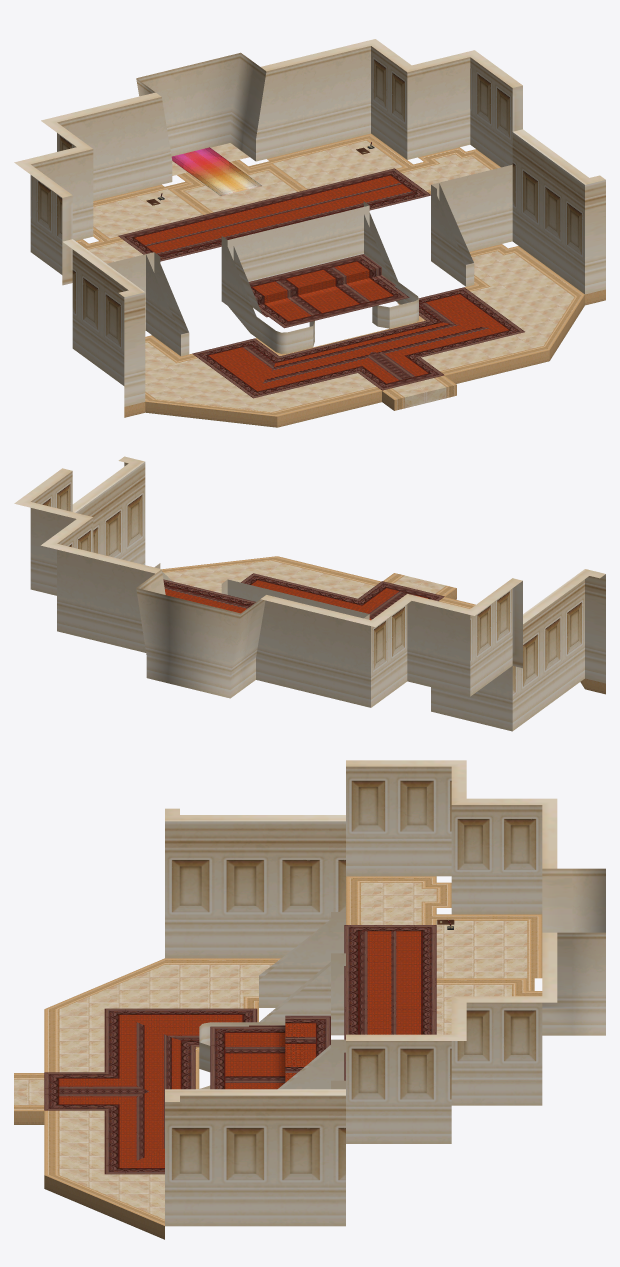
Rendered from maison 1.glb.
3 renders of one model, top to bottom at view 1: azimuth 30°, elevation 25°; view 2: azimuth 150°, elevation 25°; view 3: azimuth 270°, elevation 25°, orthographic. The views are drawn at different scales.
Parts seen in each view (by area): view 1: vsn_mesh_4_polySurface1, vsn_mesh_3_polySurface1, vsn_mesh_2_polySurface1, vsn_mesh_1_polySurface1, vsn_mesh_0_polySurface1, vsn_mesh_7_polySurface1; view 2: vsn_mesh_4_polySurface1, vsn_mesh_3_polySurface1, vsn_mesh_2_polySurface1, vsn_mesh_1_polySurface1, vsn_mesh_0_polySurface1; view 3: vsn_mesh_3_polySurface1, vsn_mesh_2_polySurface1, vsn_mesh_1_polySurface1, vsn_mesh_4_polySurface1, vsn_mesh_0_polySurface1.
Boxes of the visible parts, x1=… form: vsn_mesh_4_polySurface1: x1=31, y1=46, x2=512, y2=356; vsn_mesh_3_polySurface1: x1=14, y1=39, x2=605, y2=406; vsn_mesh_2_polySurface1: x1=118, y1=168, x2=524, y2=398; vsn_mesh_1_polySurface1: x1=88, y1=140, x2=574, y2=412; vsn_mesh_0_polySurface1: x1=76, y1=133, x2=605, y2=427; vsn_mesh_7_polySurface1: x1=171, y1=147, x2=261, y2=195; vsn_mesh_4_polySurface1: x1=30, y1=508, x2=512, y2=731; vsn_mesh_3_polySurface1: x1=14, y1=456, x2=605, y2=730; vsn_mesh_2_polySurface1: x1=163, y1=573, x2=444, y2=620; vsn_mesh_1_polySurface1: x1=164, y1=560, x2=445, y2=598; vsn_mesh_0_polySurface1: x1=162, y1=556, x2=605, y2=694; vsn_mesh_3_polySurface1: x1=165, y1=760, x2=557, y2=1226; vsn_mesh_2_polySurface1: x1=44, y1=925, x2=436, y2=1174; vsn_mesh_1_polySurface1: x1=14, y1=882, x2=527, y2=1219; vsn_mesh_4_polySurface1: x1=199, y1=868, x2=605, y2=1089; vsn_mesh_0_polySurface1: x1=14, y1=876, x2=542, y2=1239.
Bounding box in the file's own units: 4.14 × 1.78 × 3.53.
12 materials, 12 textured.
